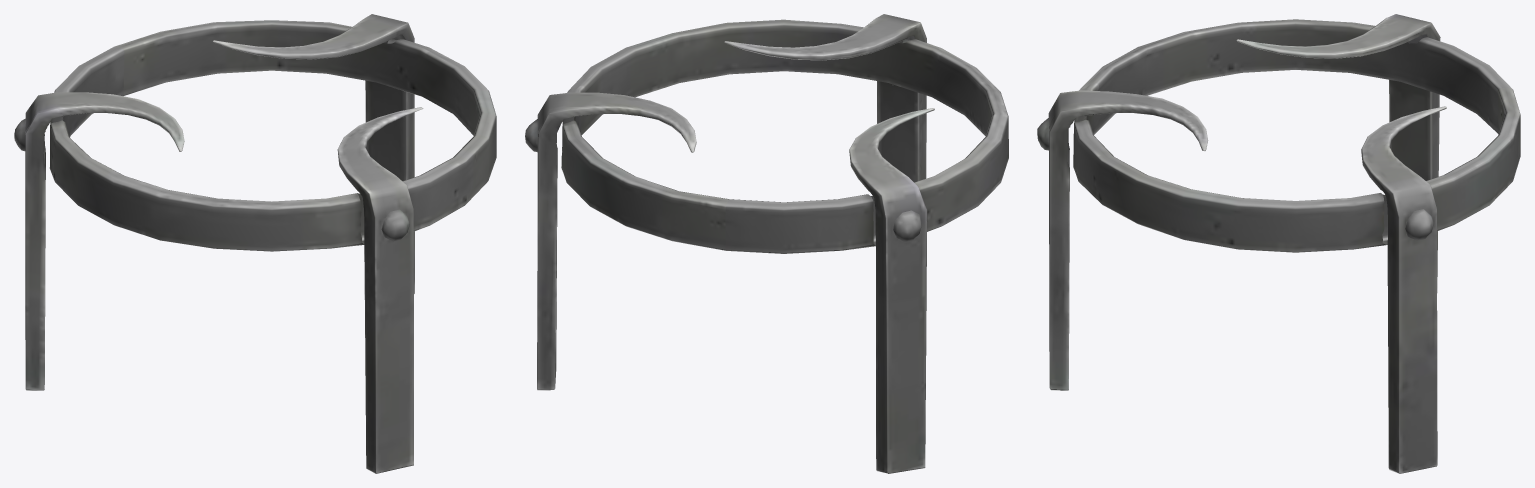
The picture shows the model from 3 angles, left to right: view 1: azimuth 30°, elevation 25°; view 2: azimuth 150°, elevation 25°; view 3: azimuth 270°, elevation 25°; orthographic projection.
Parts seen in each view (by area): view 1: SM_Dec_Kitchen_Castiron_Tripod_LOD0; view 2: SM_Dec_Kitchen_Castiron_Tripod_LOD0; view 3: SM_Dec_Kitchen_Castiron_Tripod_LOD0.
Boxes of the visible parts, <box> form: SM_Dec_Kitchen_Castiron_Tripod_LOD0: <box>14,14,496,473</box>; SM_Dec_Kitchen_Castiron_Tripod_LOD0: <box>525,14,1008,473</box>; SM_Dec_Kitchen_Castiron_Tripod_LOD0: <box>1037,14,1520,473</box>.
Bounding box in the file's own units: 0.3594 × 0.2483 × 0.3835.
1 material, 1 textured.
